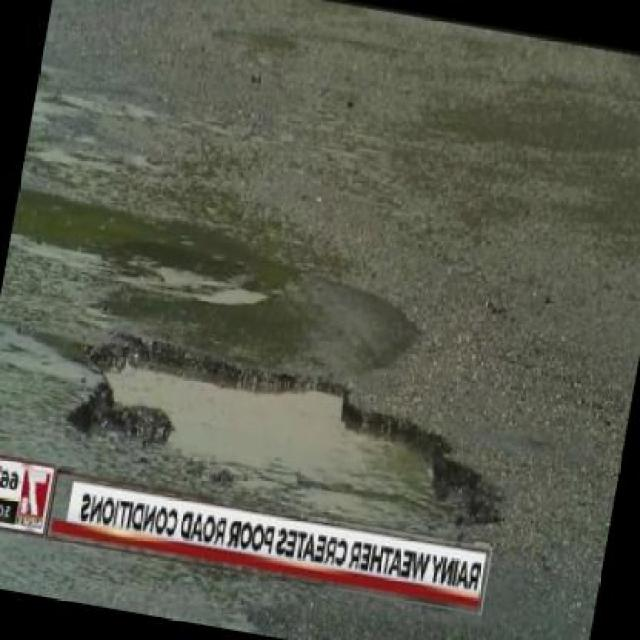pothole1: (56, 325, 518, 550)
